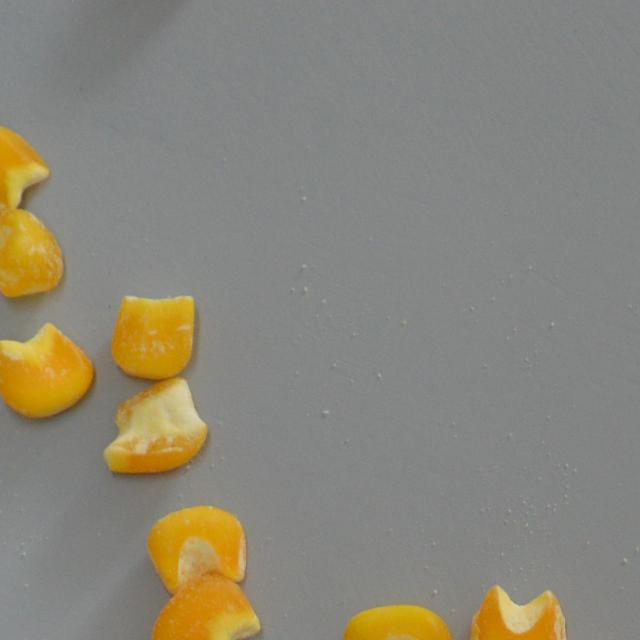no_canjicado: (0, 322, 96, 420), (0, 124, 50, 210), (341, 604, 455, 640)
pelicula: (100, 376, 209, 474), (146, 504, 248, 594), (109, 293, 198, 380), (150, 575, 261, 640), (0, 208, 64, 298), (470, 583, 567, 640)
